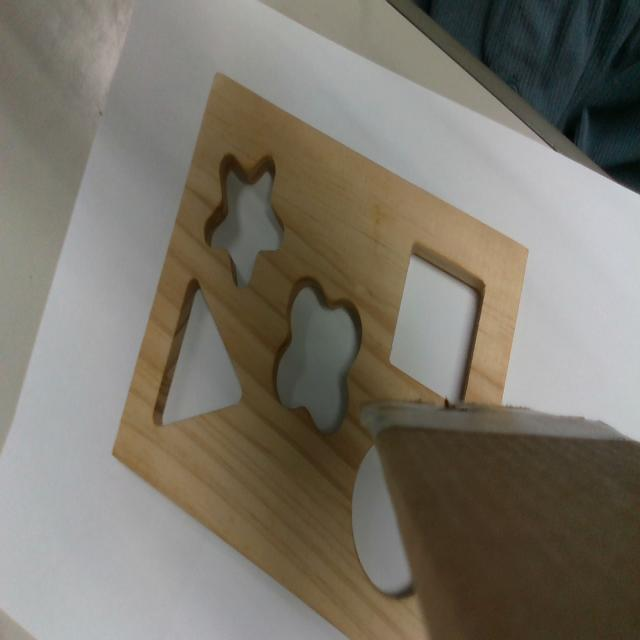circle: (352, 443, 418, 593)
flower: (276, 278, 361, 426)
square: (389, 241, 488, 403)
star: (203, 152, 286, 285)
triangle: (150, 274, 244, 429)
